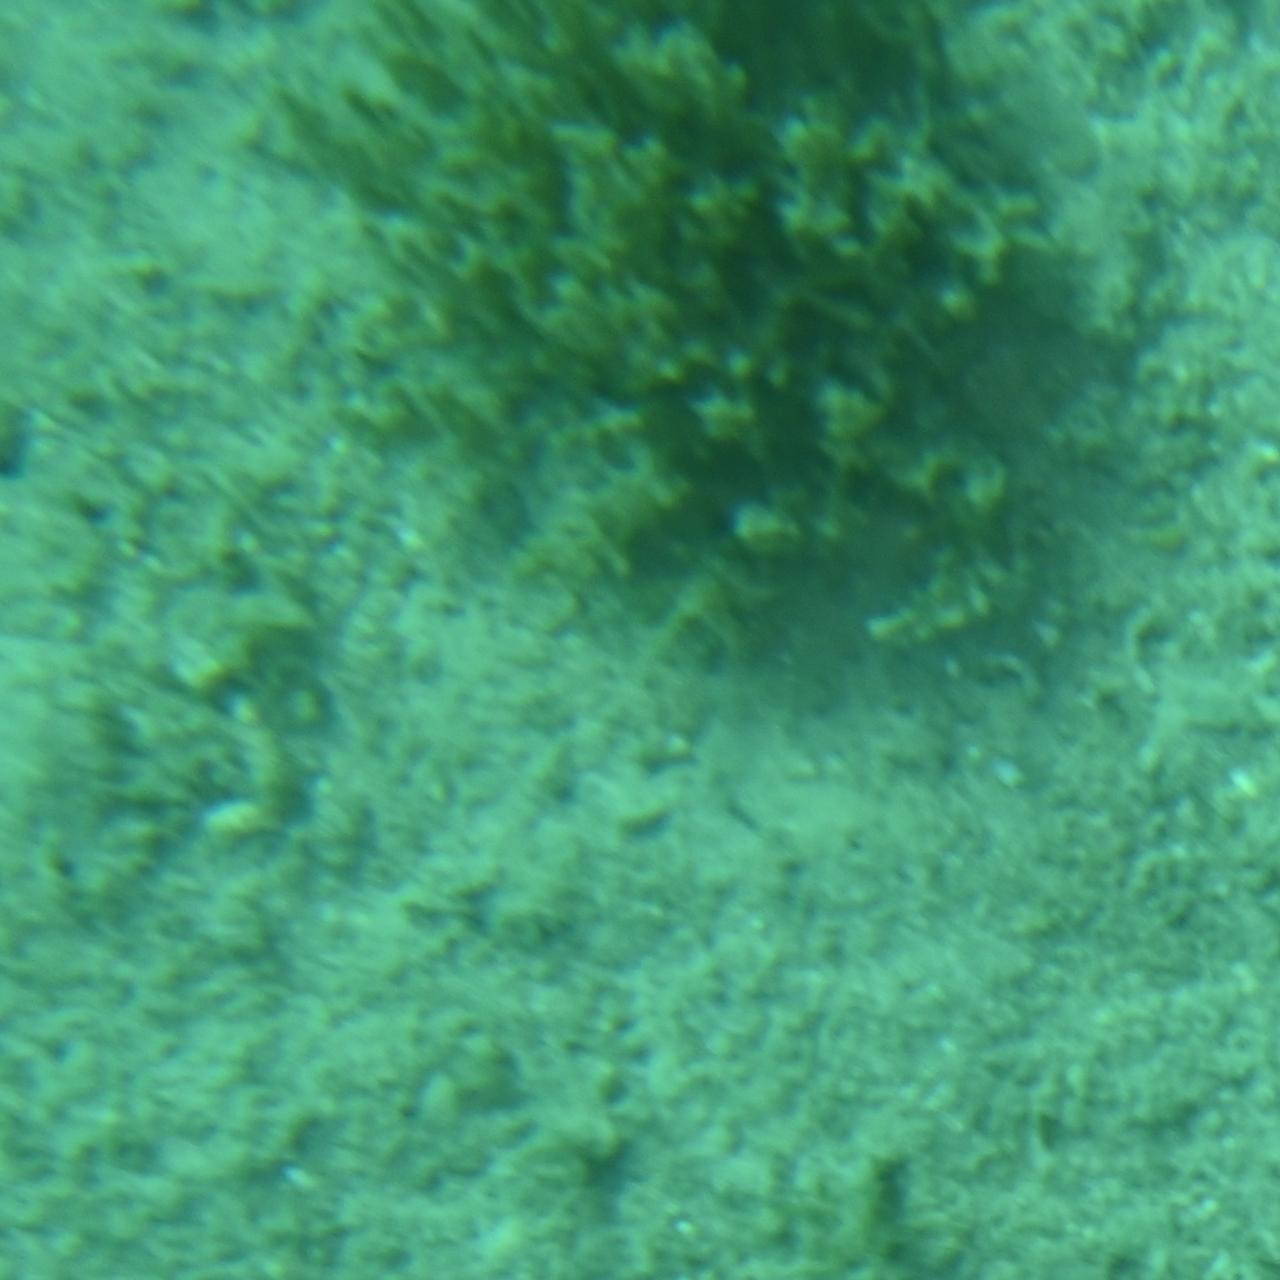Phaeophyceae -cfr Cystoseira-: (234, 0, 1046, 672)
